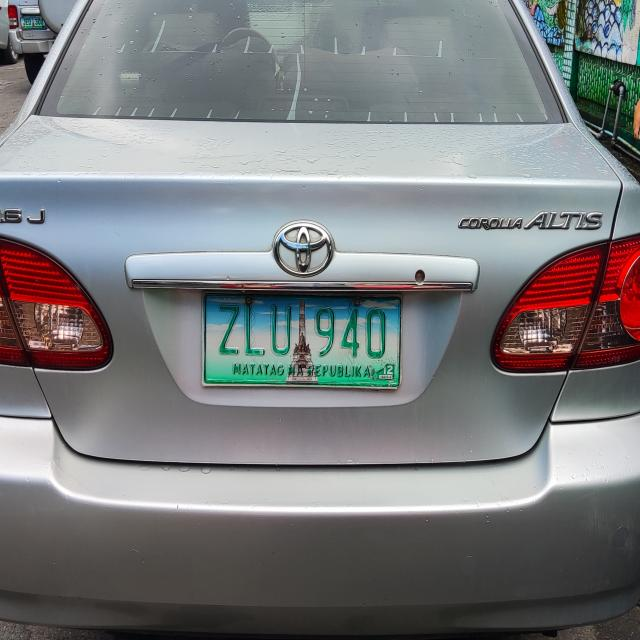plate: (198, 288, 407, 404)
